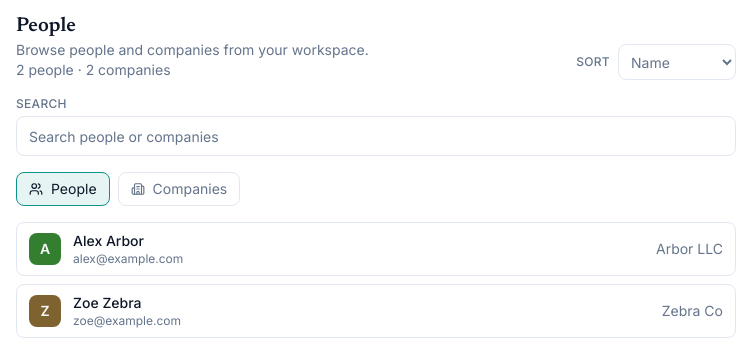
Test: PeopleScreen › sorts people and companies by name by default and reorders on most recent
This screenshot has width=755, height=355.
Expected: the text "Alex Arbor" is shown, [73,232,144,249]
Expected: the text "2 people · 2 companies" is shown, [16,61,171,78]
Step 1. Select "Most recent" in the dropdown named "Sort people and companies" → x=677, y=62, box [618,44,736,80]
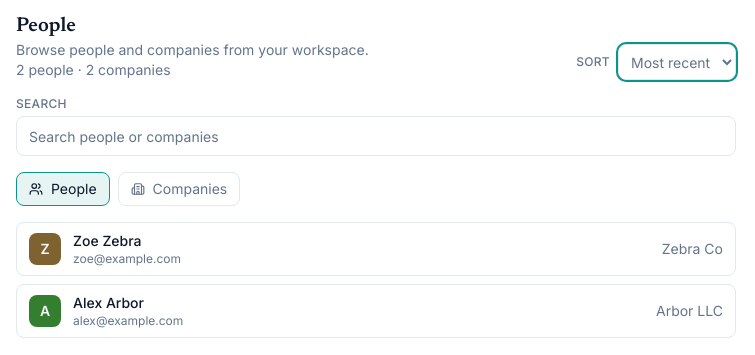
Expected: the list item "Z Zoe Zebra zoe@example.com Zebra Co" is shown, [16,222,736,276]
Expected: the list item "A Alex Arbor alex@example.com Arbor LLC" is shown, [16,284,736,338]
Step 2. Click the button "Companies" → x=179, y=189, box [118,172,240,206]
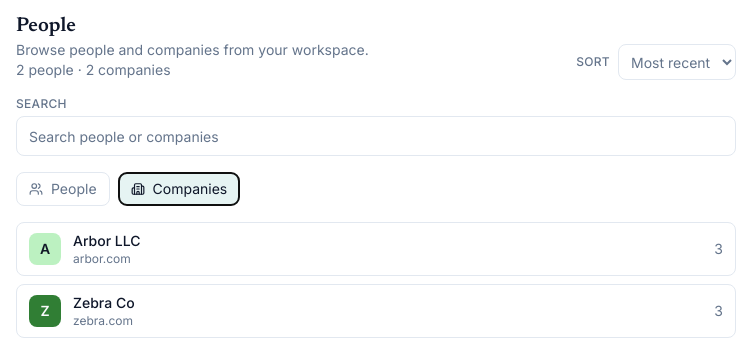
Expected: the list item "A Arbor LLC arbor.com 3" is shown, [16,222,736,276]
Expected: the list item "Z Zebra Co zebra.com 3" is shown, [16,284,736,338]
